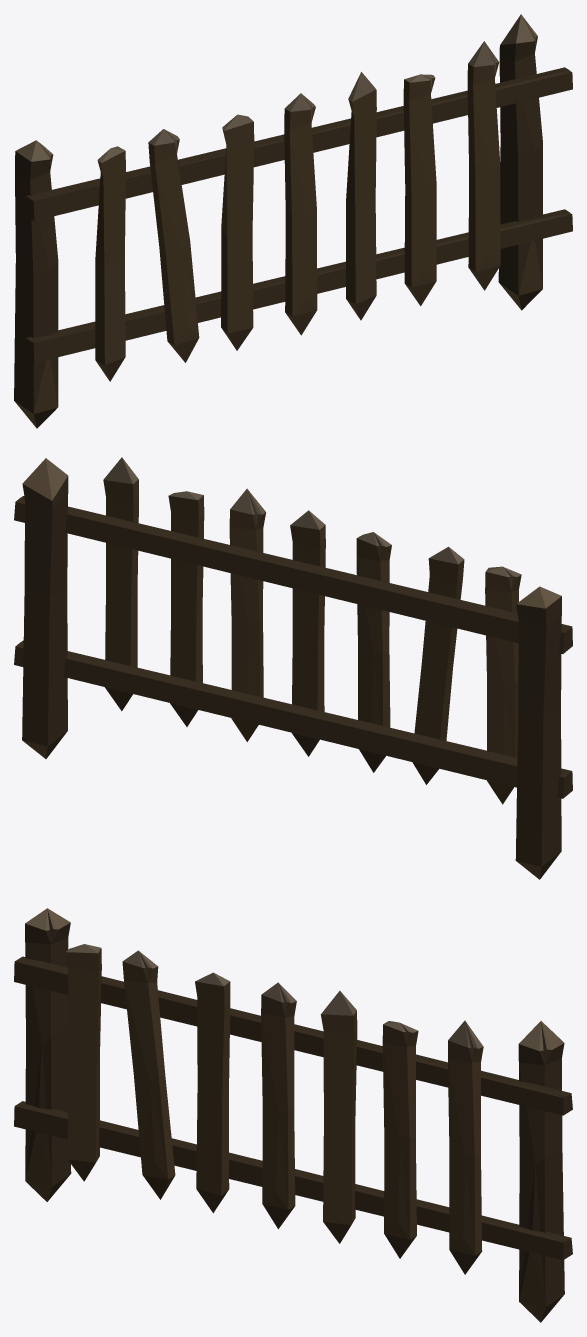
File: fence.fbx
3 renders of one model, top to bottom at view 1: azimuth 30°, elevation 25°; view 2: azimuth 150°, elevation 25°; view 3: azimuth 330°, elevation 25°, orthographic.
Visible parts, largest first — view 1: PT_Medieval_Village_Fence_01; view 2: PT_Medieval_Village_Fence_01; view 3: PT_Medieval_Village_Fence_01.
Part boxes in pixels (bbox=[...]): PT_Medieval_Village_Fence_01: bbox=[14, 14, 572, 428]; PT_Medieval_Village_Fence_01: bbox=[14, 457, 572, 879]; PT_Medieval_Village_Fence_01: bbox=[14, 908, 572, 1322].
Bounding box in the file's own units: 220 × 116 × 24.5.
